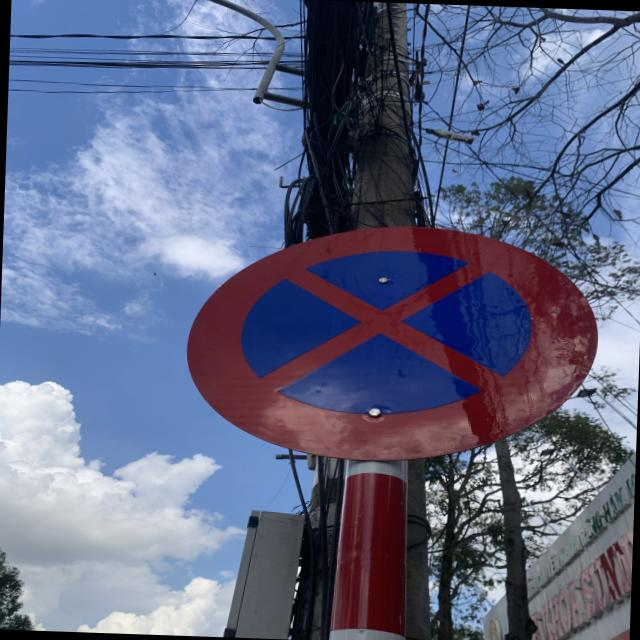Cam_Dung_Va_Dau_Xe: (182, 216, 600, 472)
